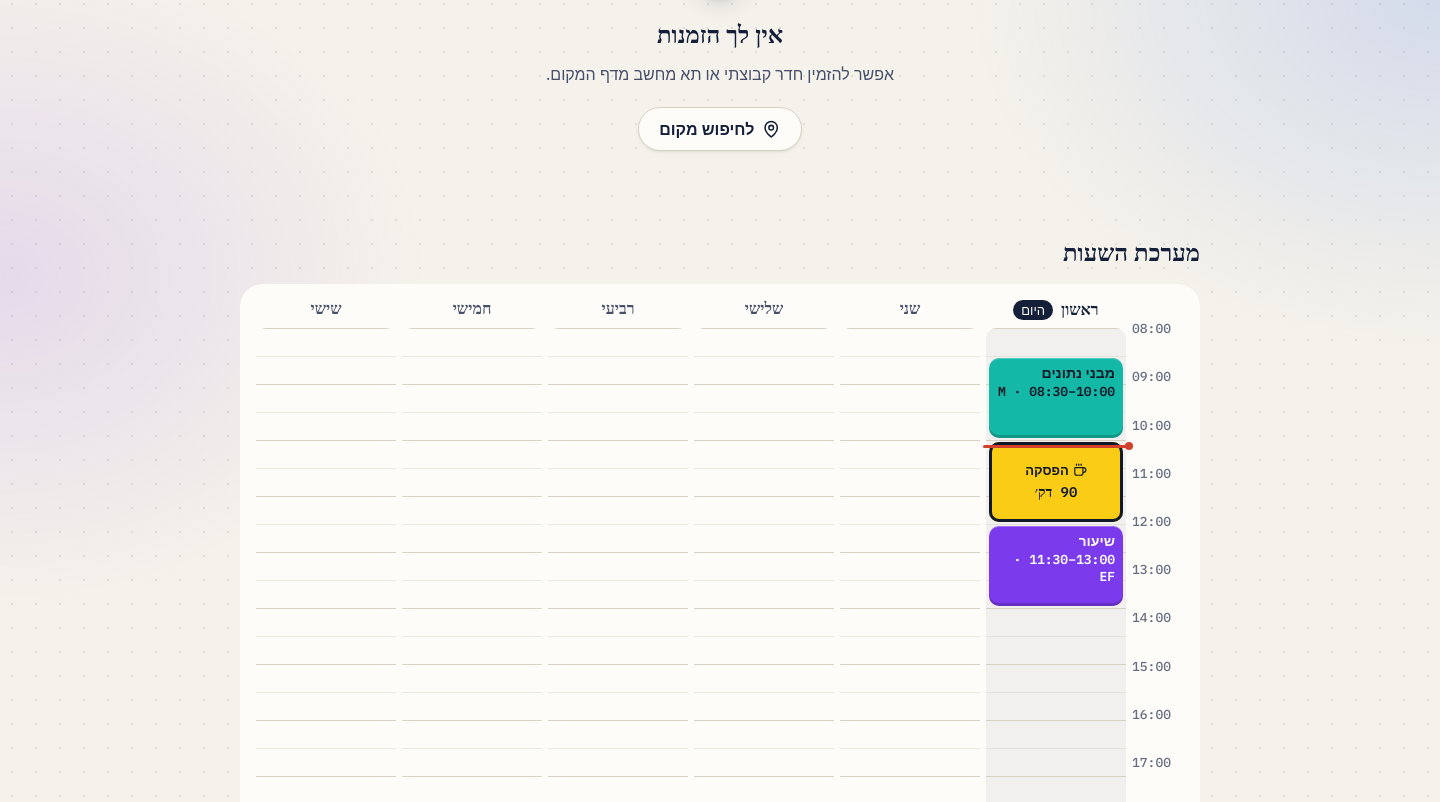
Scenario: the timetable › a class picked shows its details
This screenshot has width=1440, height=802.
(page scrolled)
Click the button with aria-label "מבני נתונים, יום ראשון": (1056, 398) [989,358,1123,438]
(page scrolled)
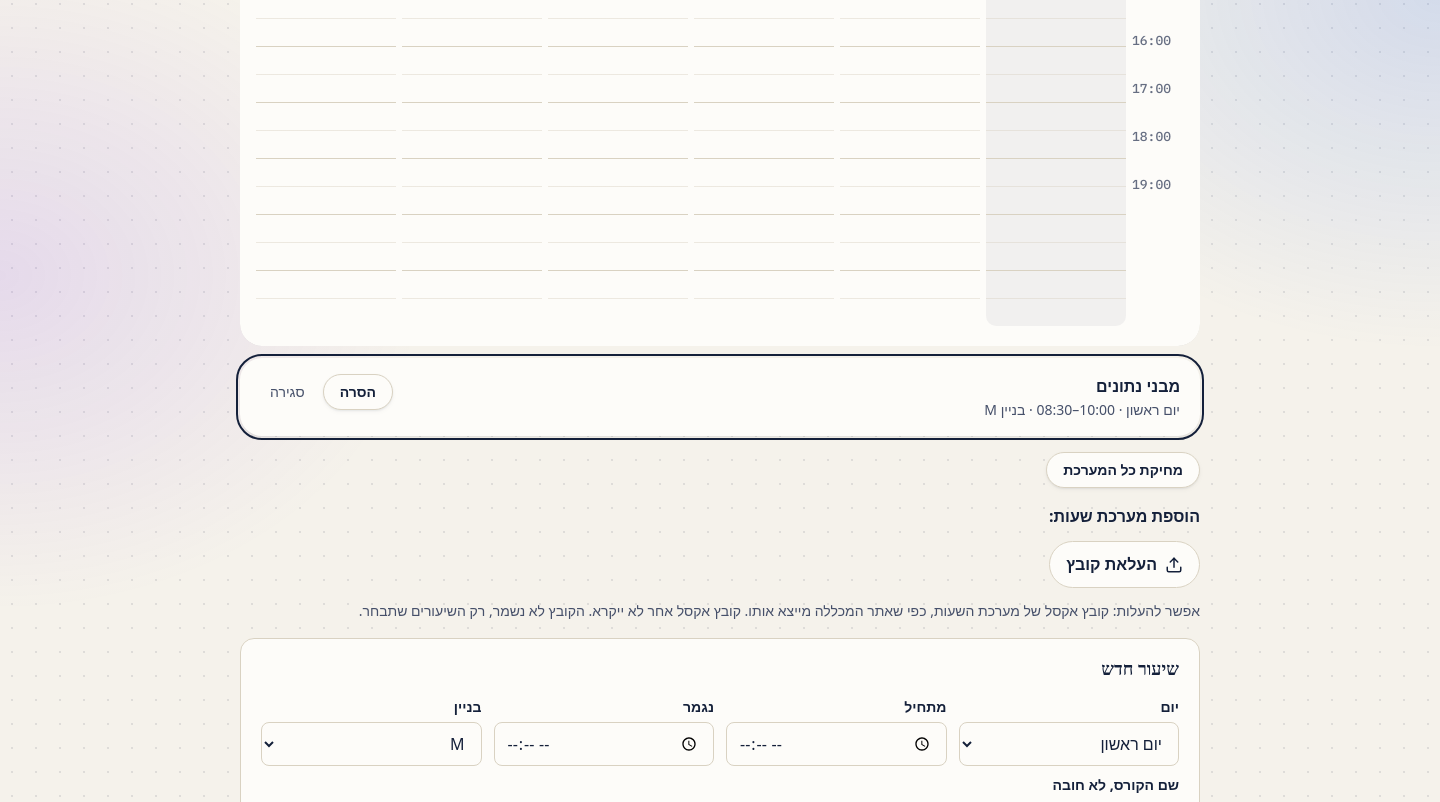
Result: the element named "פרטי השיעור" shows "יום ראשון · 08:30–10:00 · בניין M" at [240,358,1200,436]
